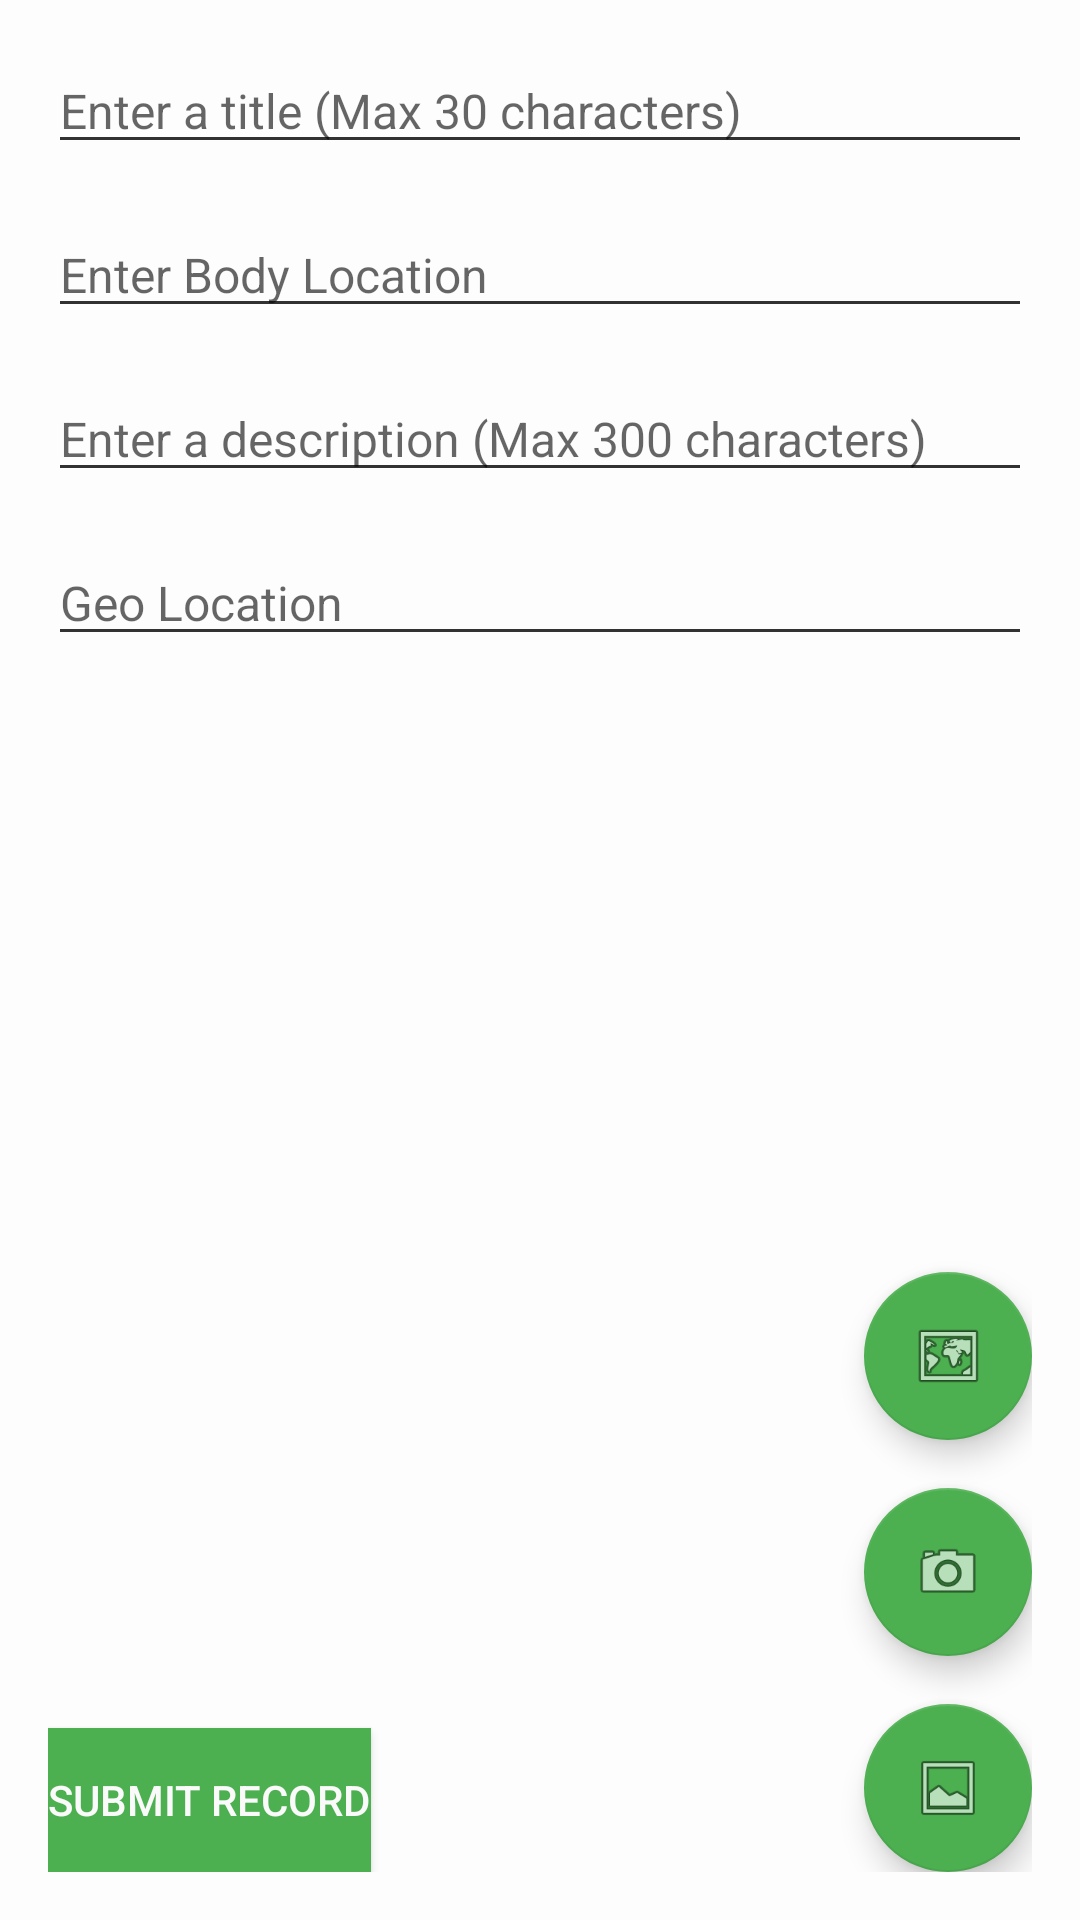

Icon click points for this 1080 x 1920 phone screenshot, format (x=x, y=y):
camera: (x=948, y=1572)
gallery: (x=948, y=1788)
mapmode: (x=948, y=1356)
